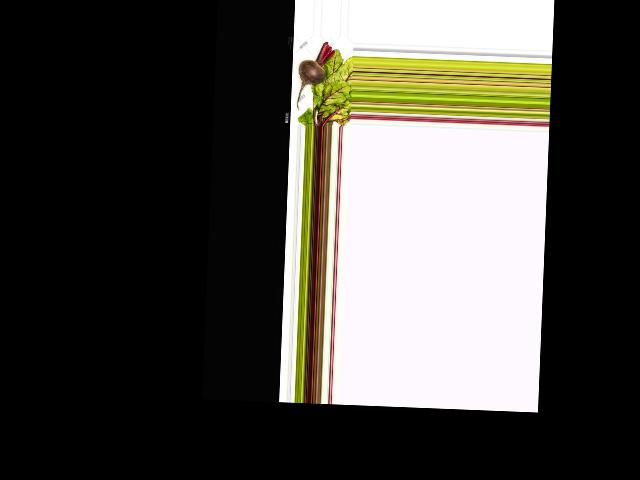beet: (296, 40, 335, 111)
